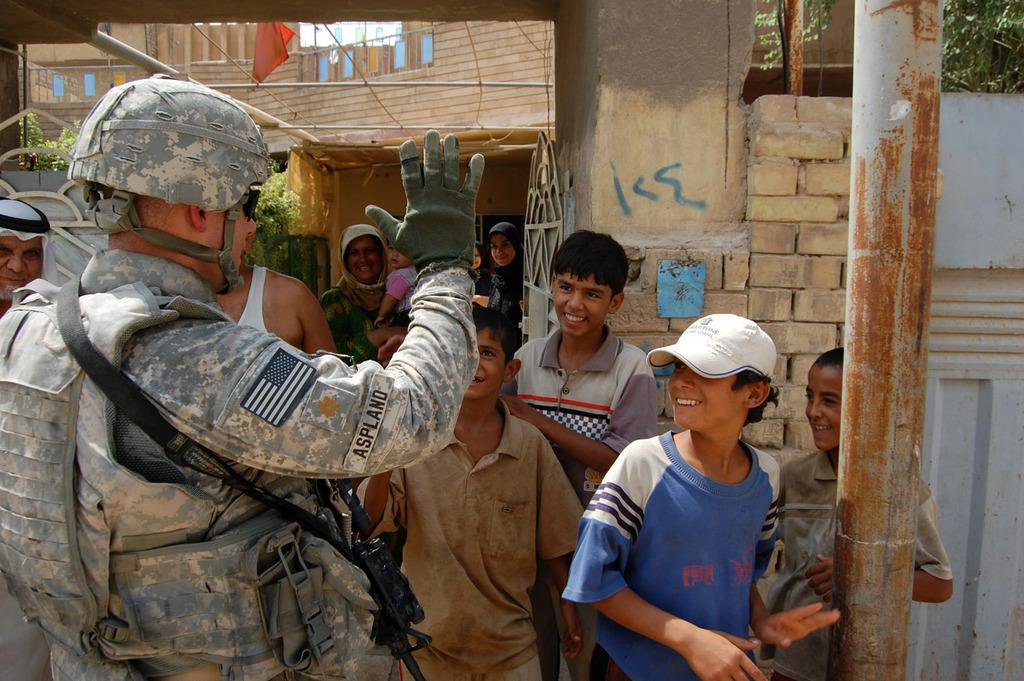Hat: (644, 312, 774, 382)
